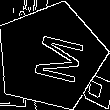M_W: (19, 27, 82, 85)
